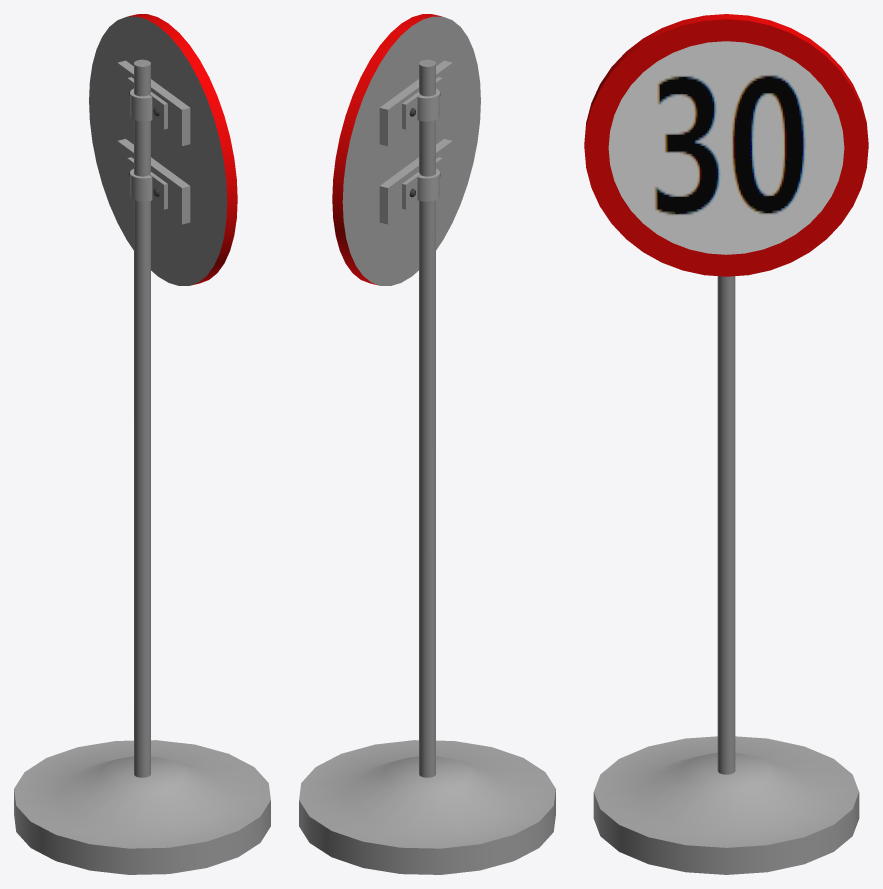
The model's file is 표지판.fbx.
The picture shows the model from 3 angles, left to right: view 1: azimuth 30°, elevation 25°; view 2: azimuth 150°, elevation 25°; view 3: azimuth 270°, elevation 25°; orthographic projection. The views are drawn at different scales.
Visible parts, largest first — view 1: pCylinder3, pCylinder1, pCylinder2, pCube2, pCube1, pCylinder4, pCylinder5, pCube4, pCube3; view 2: pCylinder3, pCylinder1, pCylinder2, pCube2, pCube1, pCylinder4, pCylinder5, pCube4, pCube3; view 3: pCylinder1, pCylinder3, pCylinder2.
Boxes of the visible parts, left/top/right/bottom form: pCylinder3: left=14, top=740, right=270, bottom=874; pCylinder1: left=89, top=14, right=237, bottom=285; pCylinder2: left=134, top=59, right=150, bottom=777; pCube2: left=117, top=139, right=190, bottom=224; pCube1: left=117, top=60, right=190, bottom=145; pCylinder4: left=130, top=168, right=152, bottom=201; pCylinder5: left=130, top=88, right=152, bottom=121; pCube4: left=127, top=77, right=167, bottom=129; pCube3: left=127, top=157, right=167, bottom=209; pCylinder3: left=299, top=740, right=555, bottom=874; pCylinder1: left=332, top=14, right=480, bottom=285; pCylinder2: left=419, top=59, right=435, bottom=777; pCube2: left=379, top=139, right=452, bottom=224; pCube1: left=379, top=60, right=452, bottom=145; pCylinder4: left=417, top=168, right=439, bottom=201; pCylinder5: left=417, top=88, right=439, bottom=121; pCube4: left=402, top=77, right=442, bottom=129; pCube3: left=402, top=157, right=442, bottom=209; pCylinder1: left=584, top=14, right=868, bottom=276; pCylinder3: left=593, top=736, right=859, bottom=874; pCylinder2: left=717, top=276, right=735, bottom=774.
Bounding box in the file's own units: 2 × 6.76 × 2.14.
5 materials, 1 textured.
